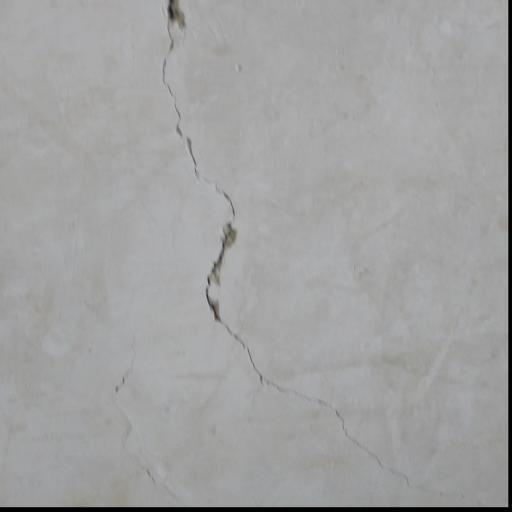minor_crack: (154, 0, 469, 512), (106, 325, 191, 512)
